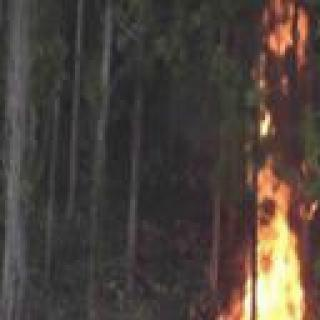fire: (171, 180, 320, 320), (249, 6, 319, 91)
